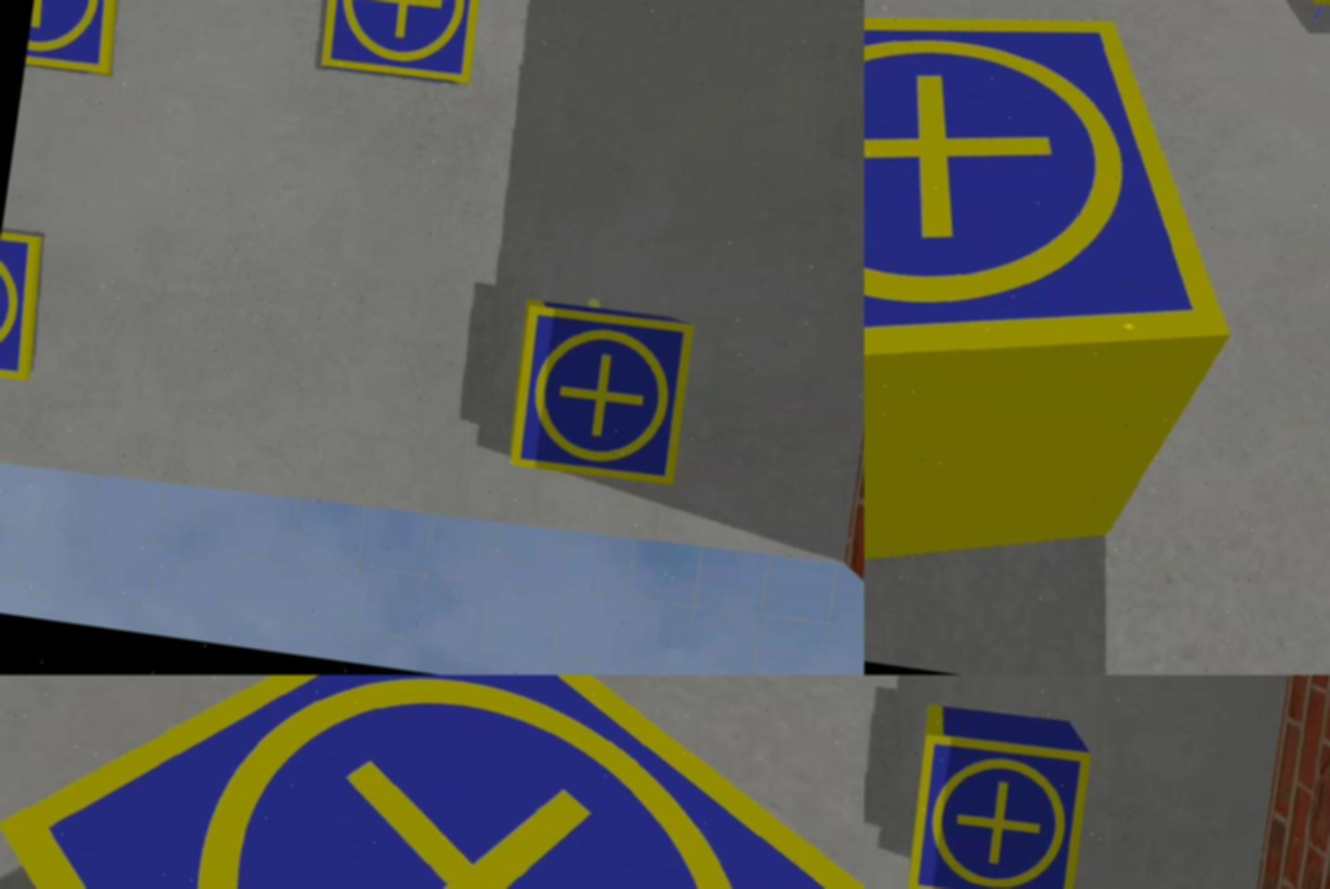small_base: (865, 1, 1273, 457), (1, 676, 865, 889), (503, 301, 698, 492), (903, 727, 1094, 889), (314, 1, 488, 85), (25, 1, 134, 79), (1, 229, 52, 385)
